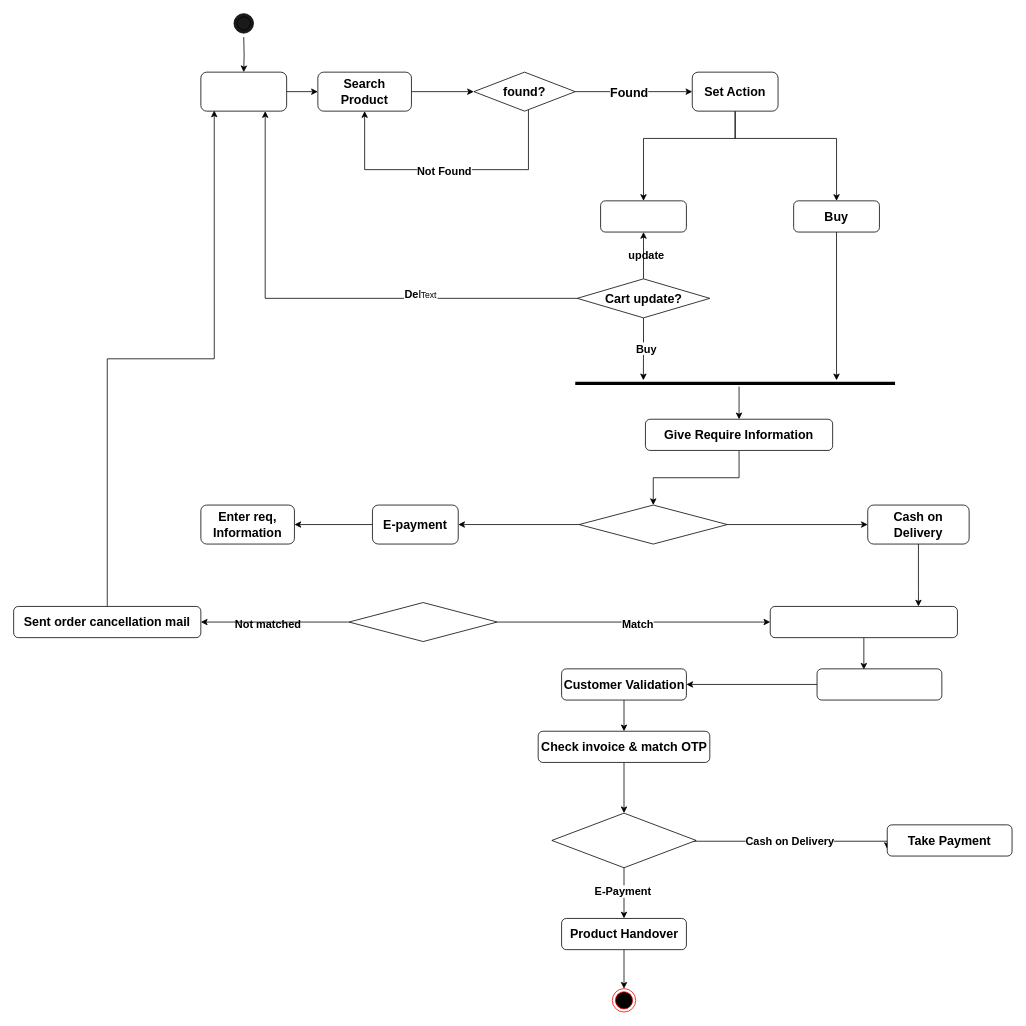
Some shapes in this 1026 by 1026 pixel diagram are drawn without their labels. Each missing label, with the centre of its shape:
"Cart" belongs at point 643,216.
"Check payment ?" belongs at point 623,840.
"Homepage" belongs at point 243,91.
"Match TrxID?" belongs at point 422,622.
"Payment type?" belongs at point 652,524.
"Product on Delivery" belongs at point 879,684.
"Sent order confirmation mail" belongs at point 863,622.
